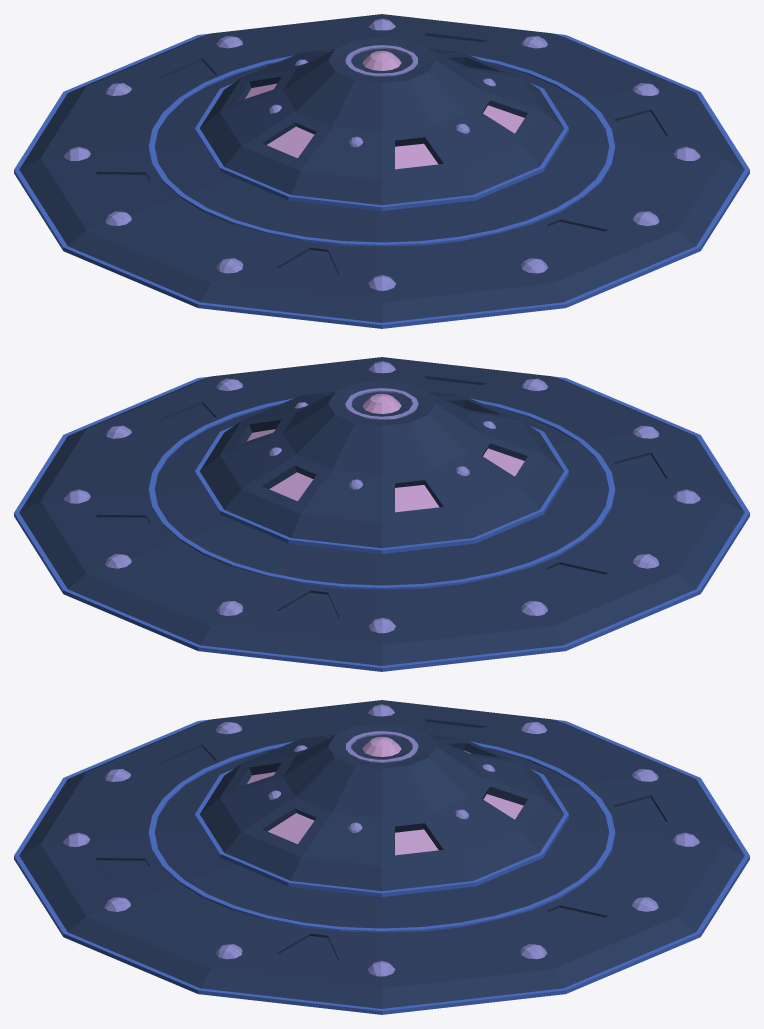
The model's file is flyingSaucer-B851kh9r.glb.
3 renders of one model, top to bottom at view 1: azimuth 30°, elevation 25°; view 2: azimuth 150°, elevation 25°; view 3: azimuth 270°, elevation 25°, orthographic.
Visible parts, largest first — view 1: flyingSaucer:Node; view 2: flyingSaucer:Node; view 3: flyingSaucer:Node.
Part boxes in pixels (x1,y1,x2,y2): flyingSaucer:Node: (14, 14, 749, 328); flyingSaucer:Node: (14, 357, 749, 671); flyingSaucer:Node: (14, 700, 749, 1014).
Size of the model in its own units: 424 by 108 by 424.
1 material, 1 textured.
